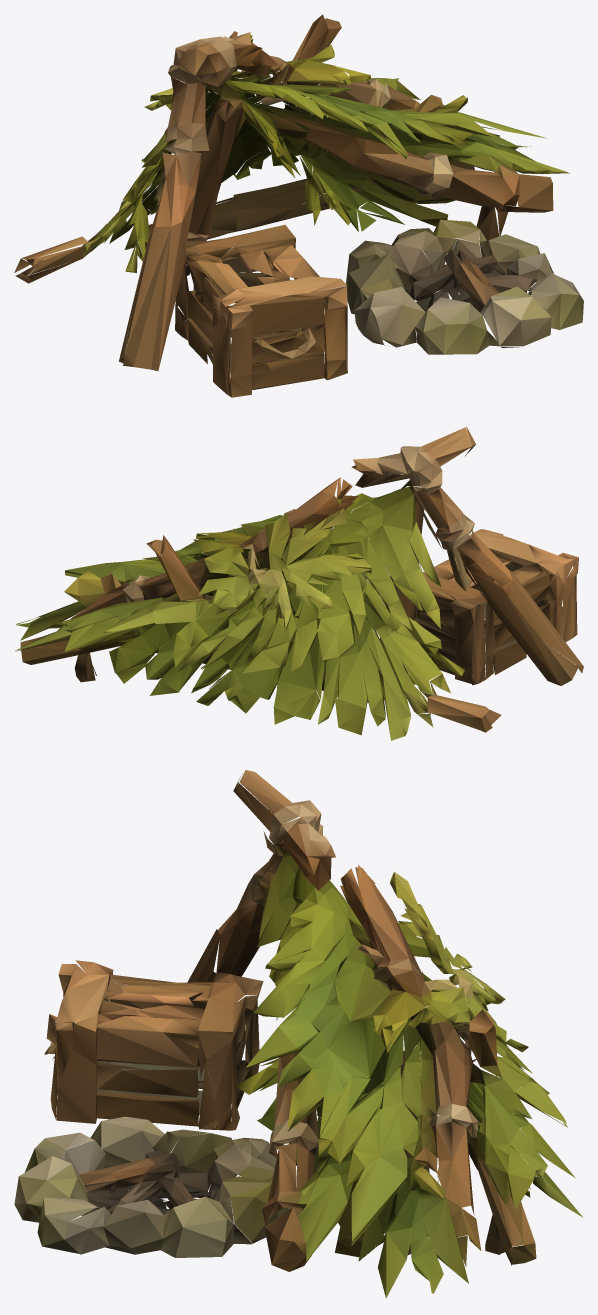
Rendered from building-oldCamp.glb.
3 renders of one model, top to bottom at view 1: azimuth 30°, elevation 25°; view 2: azimuth 150°, elevation 25°; view 3: azimuth 270°, elevation 25°, orthographic. The views are drawn at different scales.
Parts seen in each view (by area): view 1: 0_oldCamp; view 2: 0_oldCamp; view 3: 0_oldCamp.
Part boxes in pixels (x1,y1,x2,y2): 0_oldCamp: (14, 14, 583, 397); 0_oldCamp: (15, 426, 583, 740); 0_oldCamp: (14, 770, 583, 1298).
Bounding box in the file's own units: 3.84 × 1.98 × 3.22.
